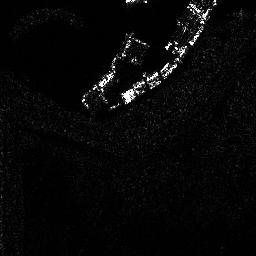ship: (97, 68, 116, 88)
